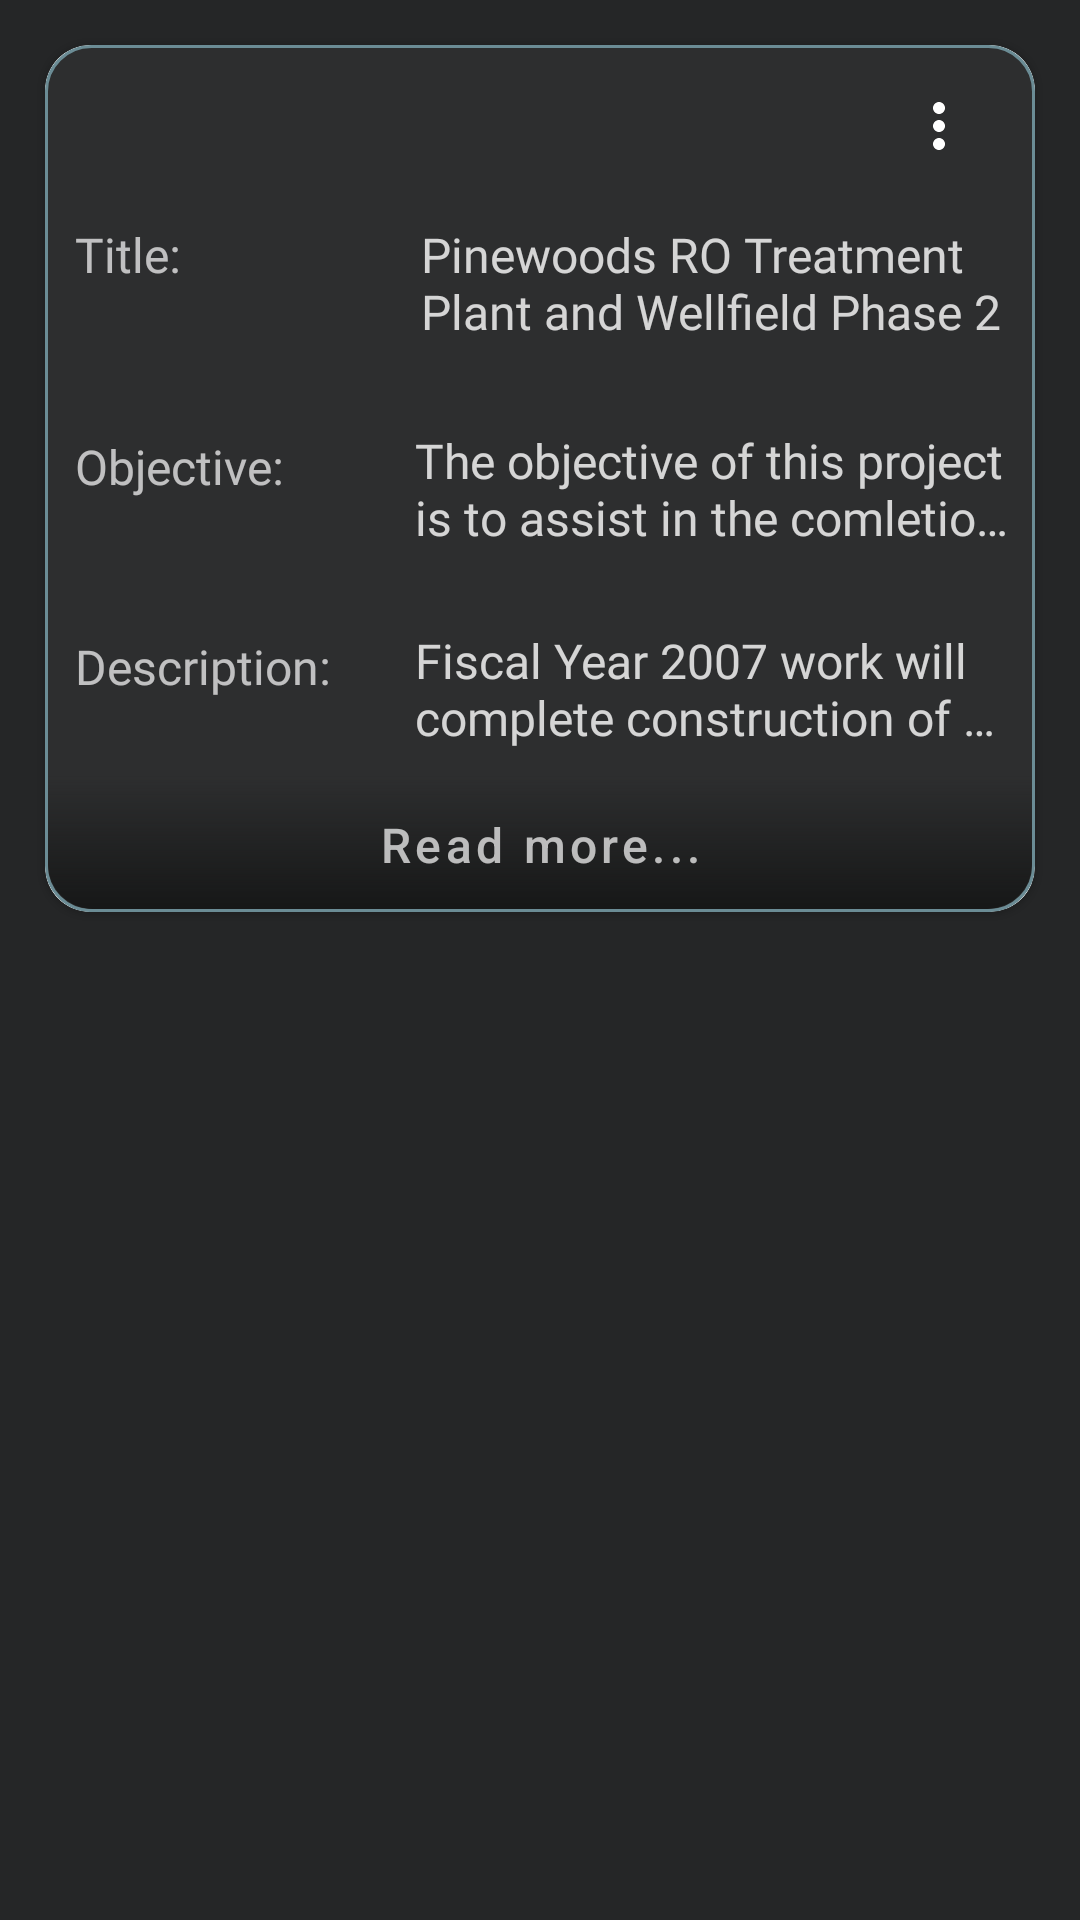

Screen size 1080*1920. Icon name, then its center in pixels as (x,y):
more: (939,126)
